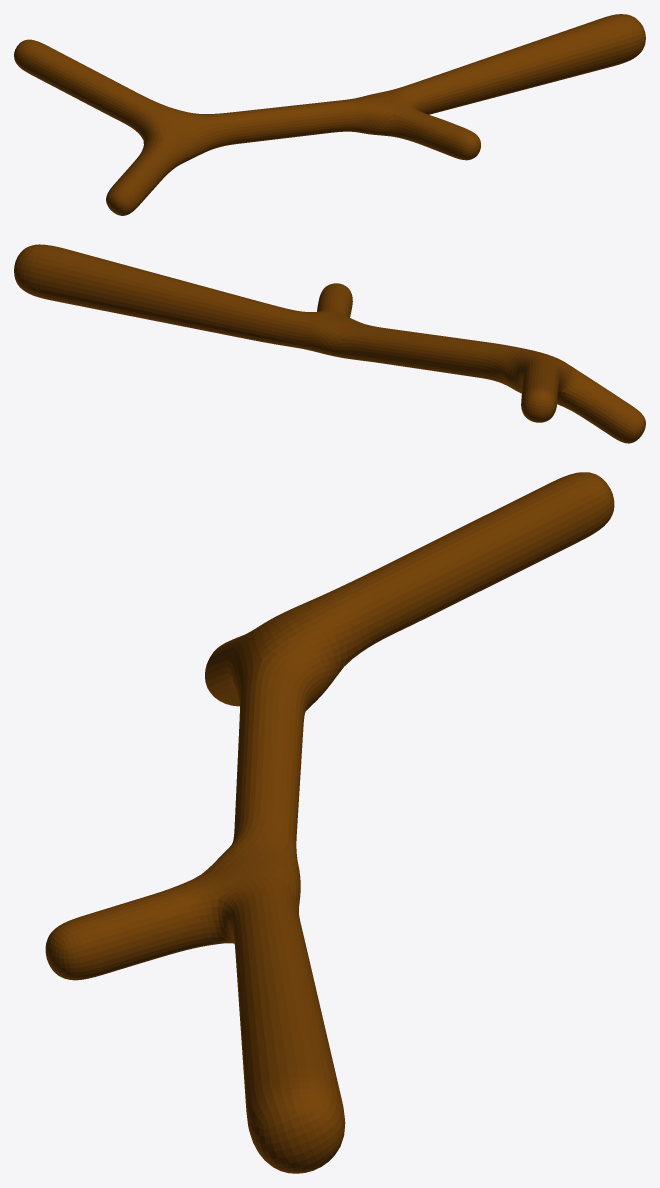
Rendered from shuzhi2.fbx.
The picture shows the model from 3 angles, top to bottom: view 1: azimuth 30°, elevation 25°; view 2: azimuth 150°, elevation 25°; view 3: azimuth 270°, elevation 25°; orthographic projection. The views are drawn at different scales.
Visible parts, largest first — view 1: 平面.042; view 2: 平面.042; view 3: 平面.042.
Boxes of the visible parts, left/top/right/bottom form: 平面.042: left=14, top=14, right=645, bottom=215; 平面.042: left=14, top=244, right=645, bottom=443; 平面.042: left=45, top=472, right=614, bottom=1173.
Size of the model in its own units: 501 by 96.11 by 223.
